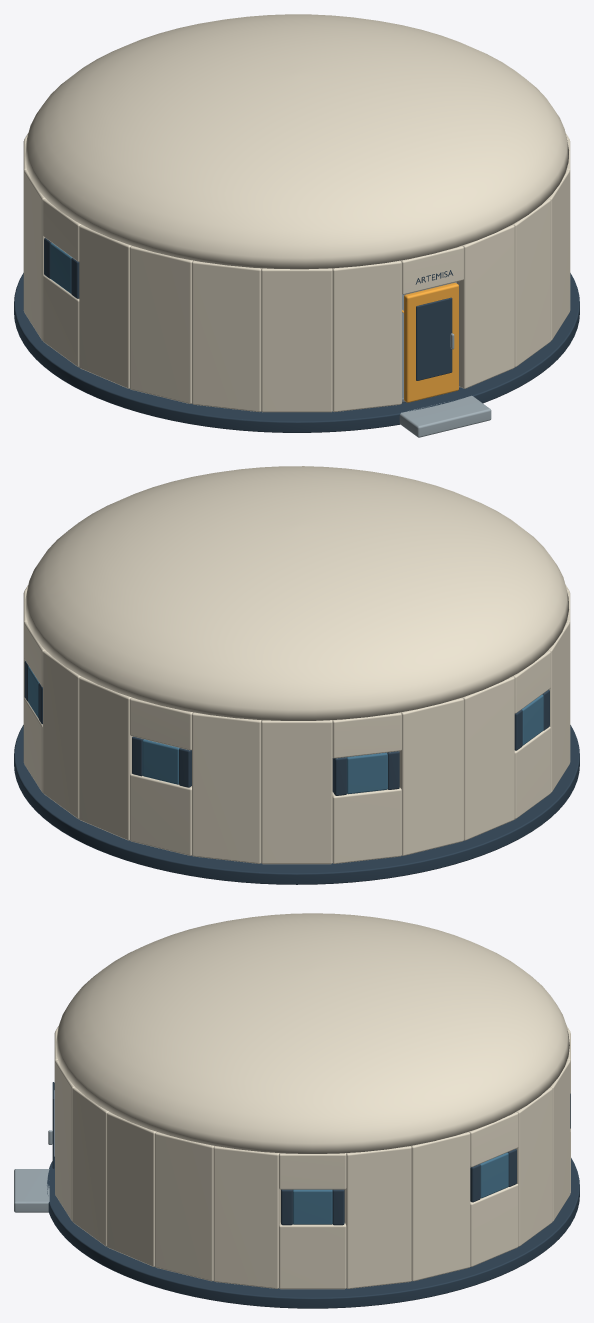
The model's file is habitat.glb.
The picture shows the model from 3 angles, top to bottom: view 1: azimuth 30°, elevation 25°; view 2: azimuth 150°, elevation 25°; view 3: azimuth 270°, elevation 25°; orthographic projection. The views are drawn at different scales.
Parts seen in each view (by area): view 1: Cover, Body, Door_0; view 2: Cover, Body; view 3: Cover, Body.
Boxes of the visible parts, <box> form: Cover: <box>25,14,568,269</box>; Body: <box>14,133,579,437</box>; Door_0: <box>404,282,458,402</box>; Cover: <box>25,466,568,720</box>; Body: <box>14,585,579,884</box>; Cover: <box>55,913,569,1153</box>; Body: <box>14,1026,579,1308</box>.
Bounding box in the file's own units: 10.6 × 4.95 × 11.23.
